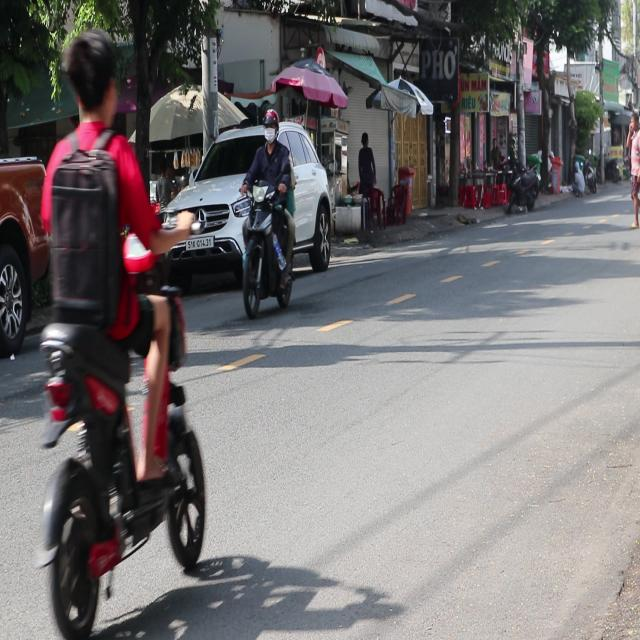licenseplate: (27, 28, 212, 637)
motorcyclist: (63, 30, 119, 128)
